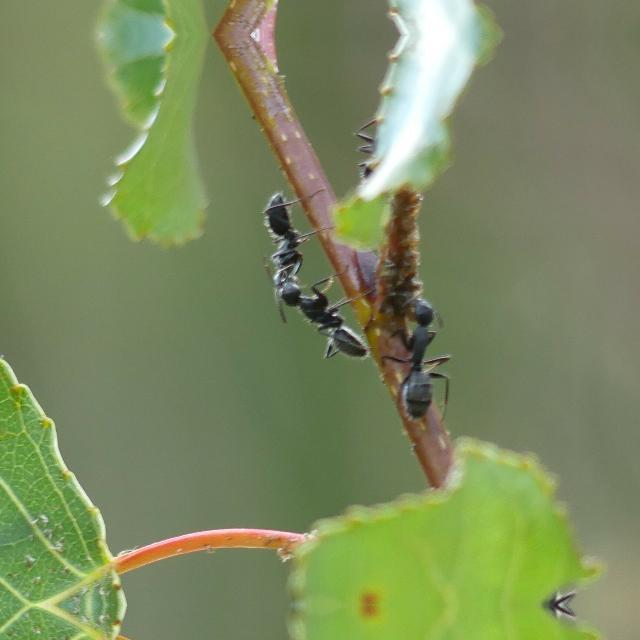Camponotus: (389, 270, 455, 426), (273, 262, 367, 370), (257, 191, 311, 295)
